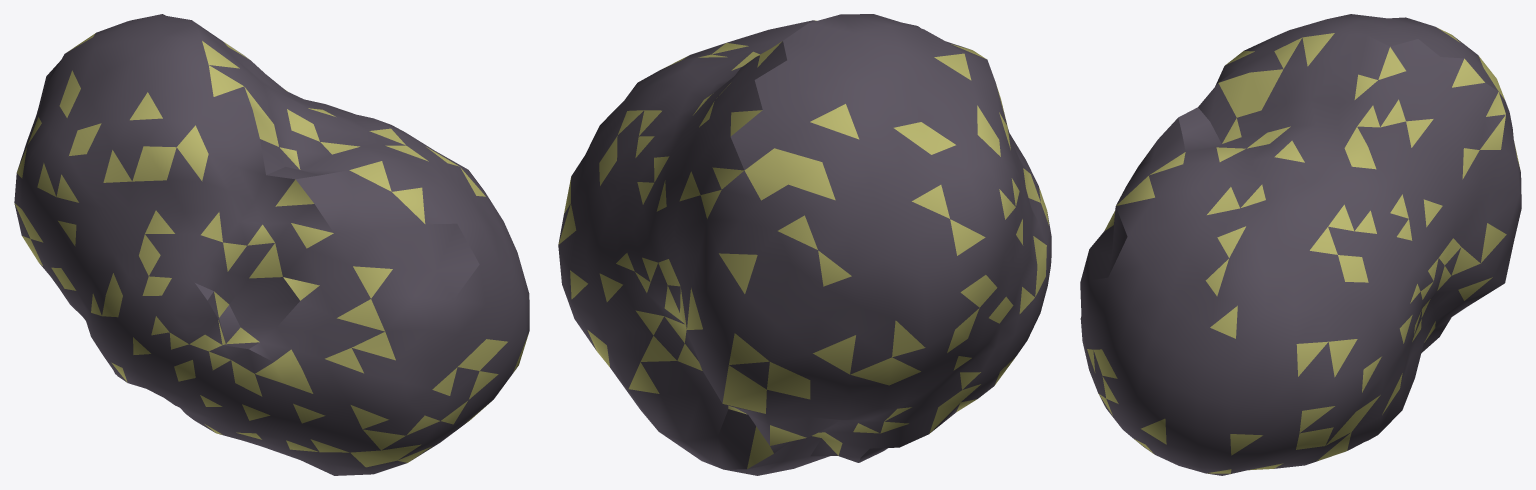
The model's file is small-carbonic-asteroid.glb.
3 renders of one model, left to right at view 1: azimuth 30°, elevation 25°; view 2: azimuth 150°, elevation 25°; view 3: azimuth 270°, elevation 25°, orthographic. The views are drawn at different scales.
Parts seen in each view (by area): view 1: body; view 2: body; view 3: body.
Part boxes in pixels (<box>): body: <box>14,14,529,475</box>; body: <box>558,14,1051,475</box>; body: <box>1080,14,1521,475</box>.
Bounding box in the file's own units: 1.53 × 1.46 × 1.5.
